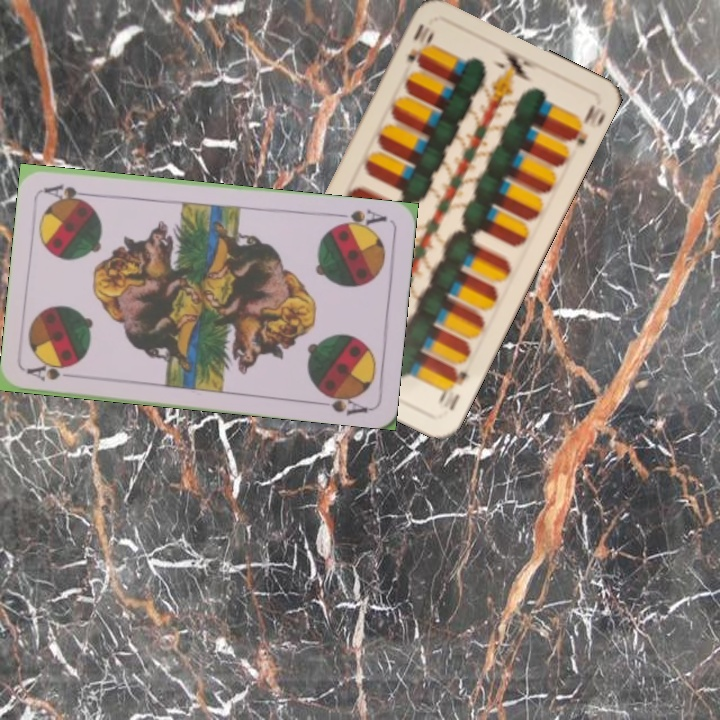E10: (433, 364, 470, 413), (402, 19, 437, 69)
SA: (330, 205, 390, 233), (24, 359, 83, 385)
